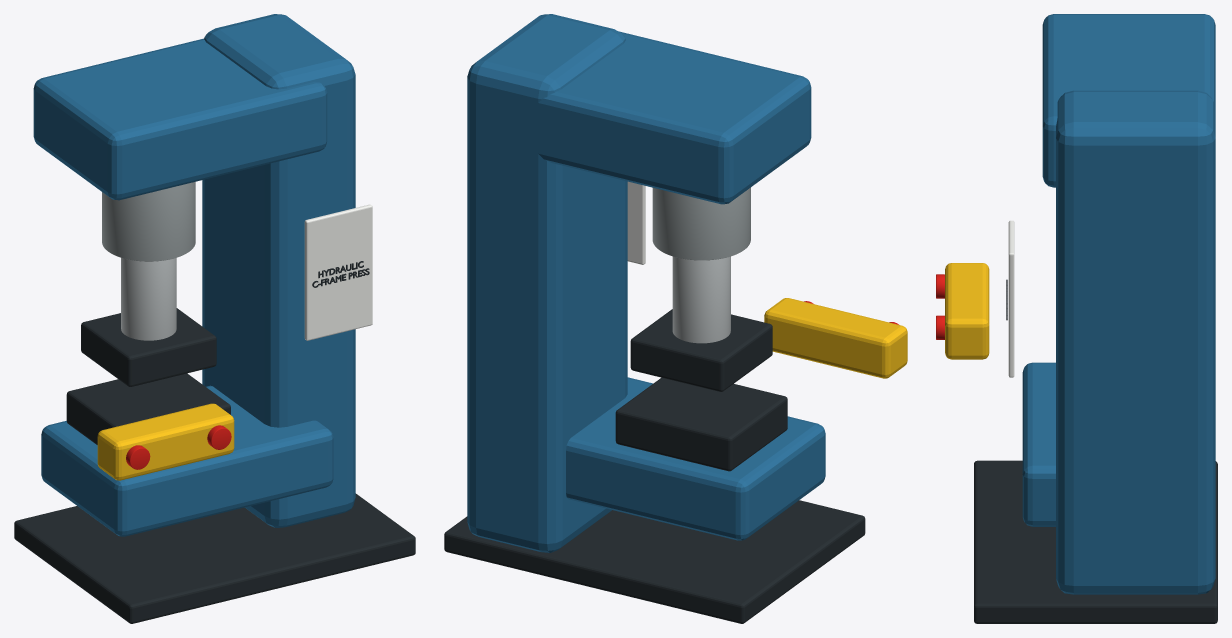
Rendered from hydraulic_c_frame_press.glb.
3 views of the same model, side by side, from view 1: azimuth 30°, elevation 25°; view 2: azimuth 150°, elevation 25°; view 3: azimuth 270°, elevation 25° (orthographic). The views are drawn at different scales.
Parts seen in each view (by area): view 1: C_FRAME_BACK, UPPER_CROWN, MACHINE_BASE, LOWER_BOLSTER, PRESS_NAMEPLATE, UPPER_DIE, TWO_HAND_CONTROL, HYDRAULIC_CYLINDER, LOWER_DIE, KIN_PRESS_RAM, PRESS_LABEL; view 2: C_FRAME_BACK, UPPER_CROWN, MACHINE_BASE, LOWER_BOLSTER, LOWER_DIE, TWO_HAND_CONTROL, UPPER_DIE, HYDRAULIC_CYLINDER, KIN_PRESS_RAM, PRESS_NAMEPLATE; view 3: C_FRAME_BACK, MACHINE_BASE, UPPER_CROWN, LOWER_BOLSTER, TWO_HAND_CONTROL, PRESS_NAMEPLATE.
Boxes of the visible parts, x1,y1,x2,y2 form: C_FRAME_BACK: (202,14,355,527); UPPER_CROWN: (33,38,327,200); MACHINE_BASE: (14,493,415,623); LOWER_BOLSTER: (41,385,333,536); PRESS_NAMEPLATE: (304,204,372,340); UPPER_DIE: (81,308,216,386); TWO_HAND_CONTROL: (97,403,234,480); HYDRAULIC_CYLINDER: (102,182,195,261); LOWER_DIE: (66,373,230,444); KIN_PRESS_RAM: (121,258,176,340); PRESS_LABEL: (312,261,369,287); C_FRAME_BACK: (467,14,627,552); UPPER_CROWN: (509,31,811,204); MACHINE_BASE: (444,500,865,623); LOWER_BOLSTER: (566,377,825,540); LOWER_DIE: (615,377,787,471); TWO_HAND_CONTROL: (764,298,907,378); UPPER_DIE: (630,309,772,391); HYDRAULIC_CYLINDER: (652,187,750,260); KIN_PRESS_RAM: (672,256,730,343); PRESS_NAMEPLATE: (627,181,645,264); C_FRAME_BACK: (1056,90,1215,594); MACHINE_BASE: (974,460,1217,623); UPPER_CROWN: (1042,14,1215,187); LOWER_BOLSTER: (1022,362,1055,526); TWO_HAND_CONTROL: (945,263,989,359); PRESS_NAMEPLATE: (1008,220,1014,377).
Bounding box in the file's own units: 1.7 × 2.42 × 1.27.
